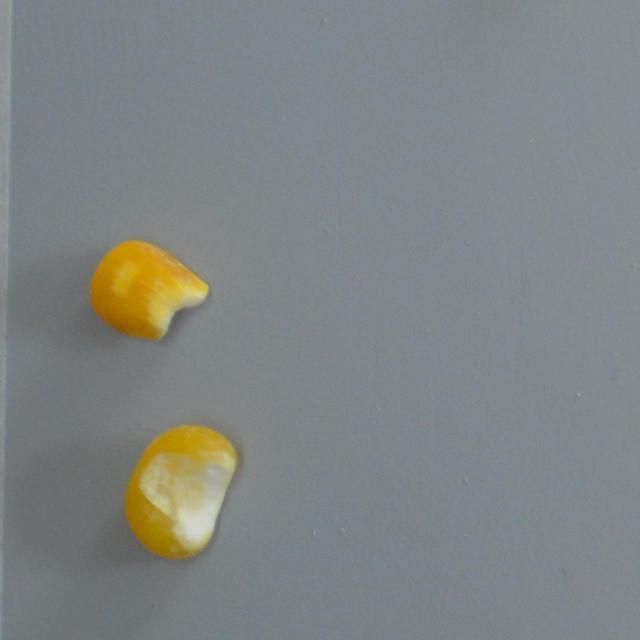no_desgerminado: (118, 422, 240, 563)
pelicula: (85, 233, 212, 346)
